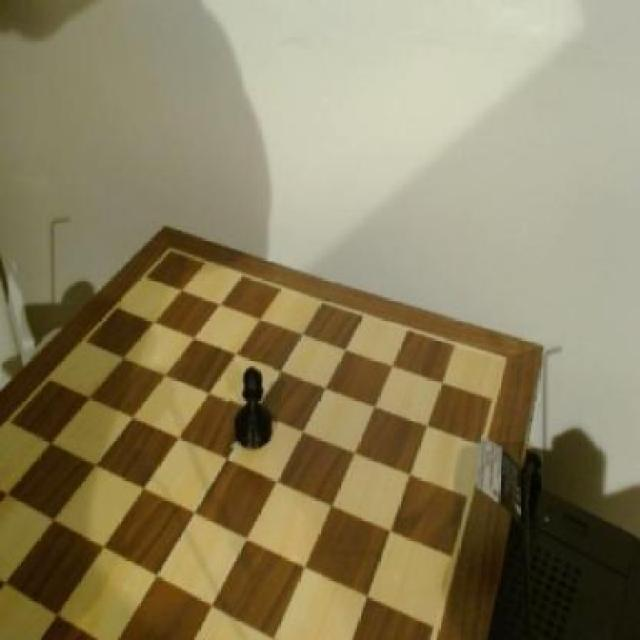black-knight: (228, 360, 278, 451)
